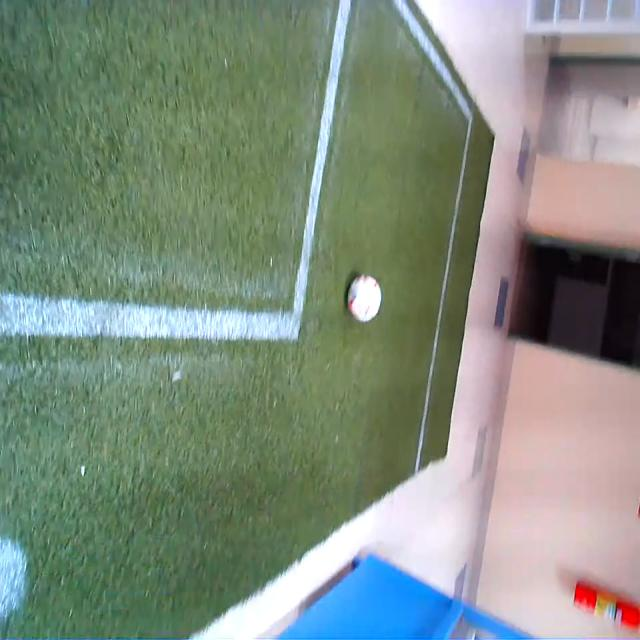ball: (347, 276, 382, 322)
